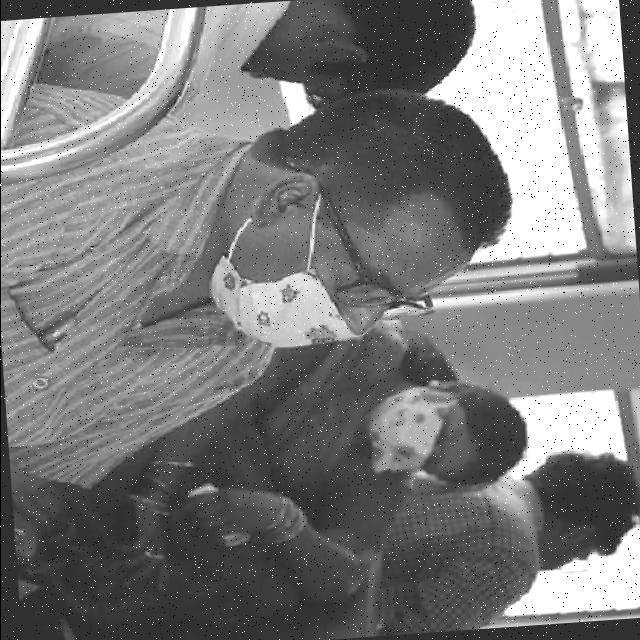mask: (234, 284, 334, 344), (379, 388, 426, 468)
no_gloves: (422, 124, 498, 230), (568, 458, 630, 560), (380, 0, 461, 66), (471, 390, 528, 464)
